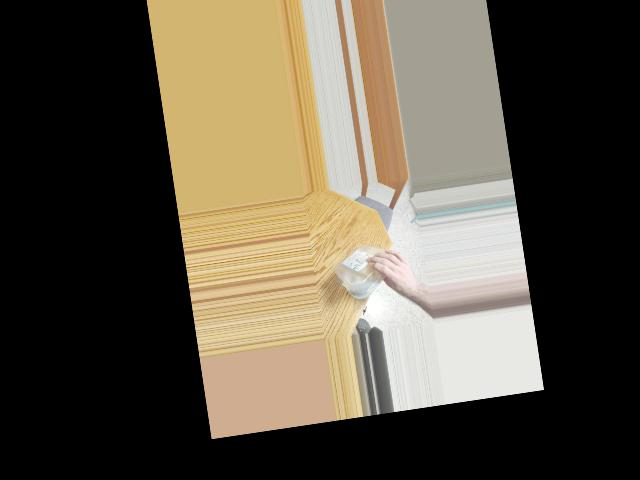cheese: (330, 239, 404, 299)
